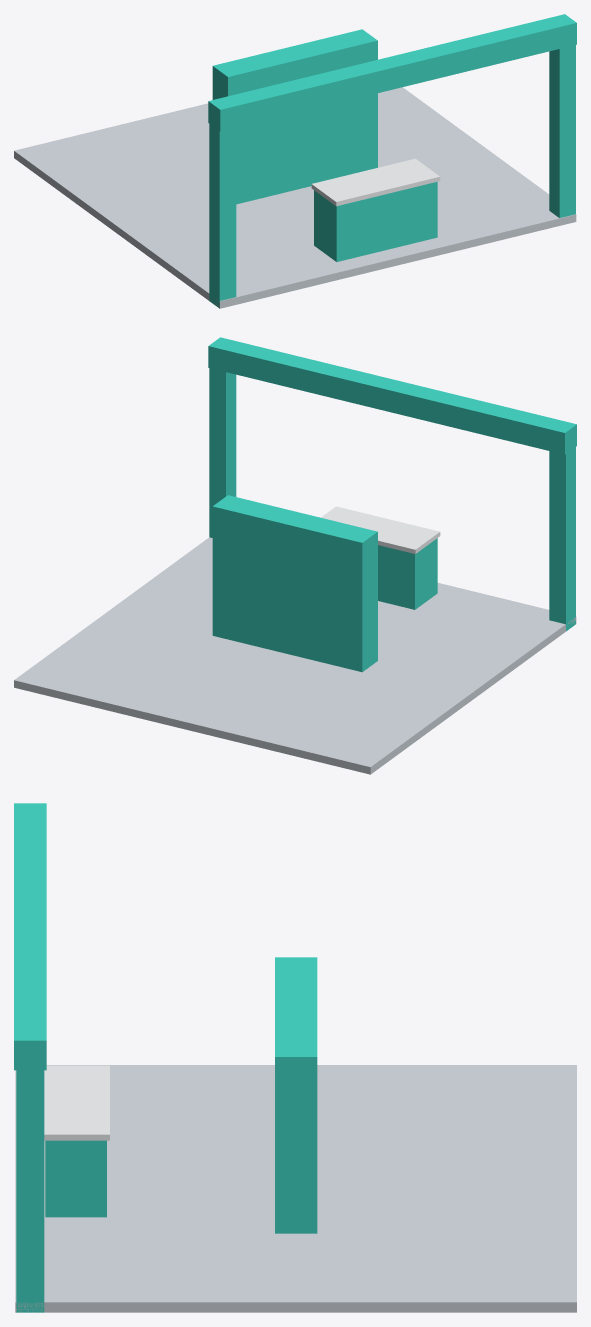
3 renders of one model, top to bottom at view 1: azimuth 30°, elevation 25°; view 2: azimuth 150°, elevation 25°; view 3: azimuth 270°, elevation 25°, orthographic. The views are drawn at different scales.
Parts seen in each view (by area): view 1: Exhibition Booth Concept; view 2: Exhibition Booth Concept; view 3: Exhibition Booth Concept.
Boxes of the visible parts, x1=… form: Exhibition Booth Concept: x1=14, y1=14, x2=576, y2=308; Exhibition Booth Concept: x1=14, y1=337, x2=576, y2=774; Exhibition Booth Concept: x1=14, y1=803, x2=576, y2=1312.
Size of the model in its own units: 6 by 3.2 by 6.02.
